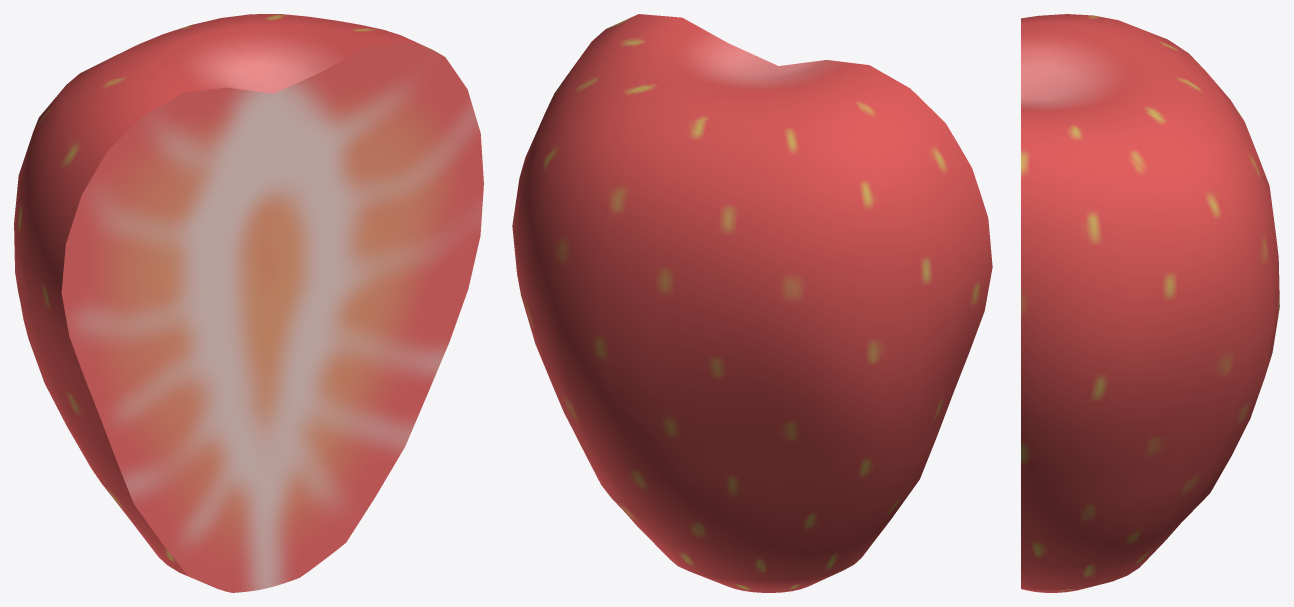
Rendered from Strawberry_Half.fbx.
3 renders of one model, left to right at view 1: azimuth 30°, elevation 25°; view 2: azimuth 150°, elevation 25°; view 3: azimuth 270°, elevation 25°, orthographic.
Visible parts, largest first — view 1: Sphere.012; view 2: Sphere.012; view 3: Sphere.012.
Part boxes in pixels (x1,y1,x2,y2): Sphere.012: (14,14,483,592); Sphere.012: (512,14,992,592); Sphere.012: (1021,14,1279,592).
Size of the model in its own units: 46.48 by 54.18 by 24.56.
